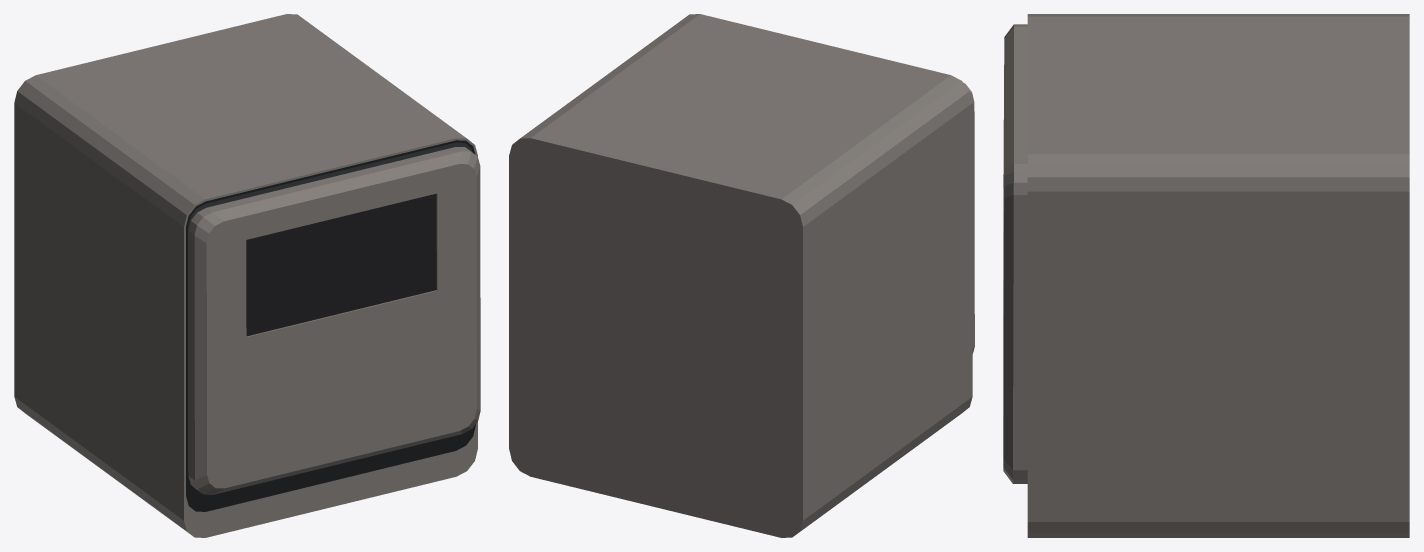
File: Tabledishwasher_01_A.gltf
The picture shows the model from 3 angles, left to right: view 1: azimuth 30°, elevation 25°; view 2: azimuth 150°, elevation 25°; view 3: azimuth 270°, elevation 25°; orthographic projection. The views are drawn at different scales.
Visible parts, largest first — view 1: Tabledishwasher_01_A, DoorTabledishwasher_01_A; view 2: Tabledishwasher_01_A, DoorTabledishwasher_01_A; view 3: Tabledishwasher_01_A, DoorTabledishwasher_01_A.
Part boxes in pixels (<box>): Tabledishwasher_01_A: <box>14,14,477,537</box>; DoorTabledishwasher_01_A: <box>188,147,480,494</box>; Tabledishwasher_01_A: <box>509,14,972,537</box>; DoorTabledishwasher_01_A: <box>964,83,974,353</box>; Tabledishwasher_01_A: <box>1027,14,1409,537</box>; DoorTabledishwasher_01_A: <box>1003,24,1027,483</box>.
Bounding box in the file's own units: 0.5998 × 0.6603 × 0.6381.
Materials: 1 (1 with a texture image).
